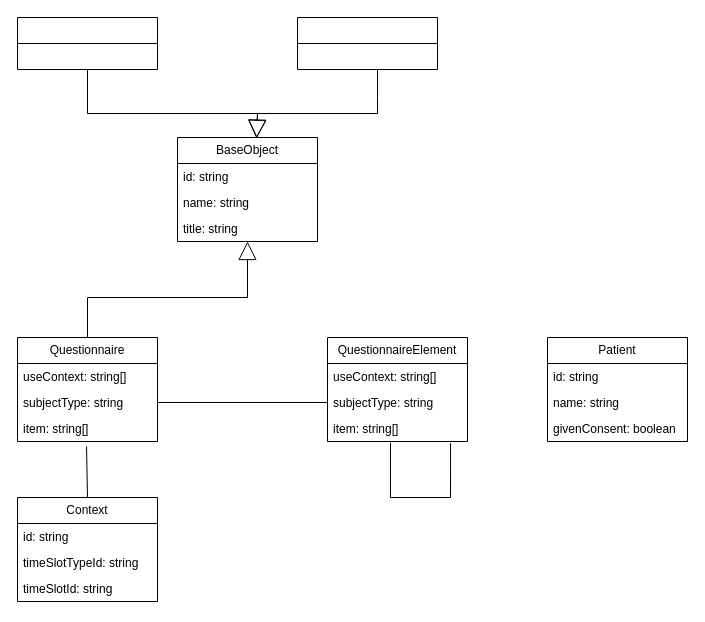
The diagram is 705 pixels wide and 622 high, and some of its shapes have lost their labels. Each missing label, with the centre of its shape:
Timeslot: the point at 87,43
TimeslotType: the point at 367,43
